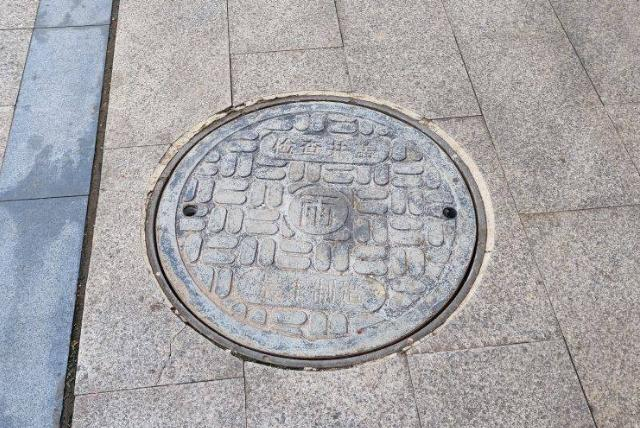good: (137, 83, 501, 380)
